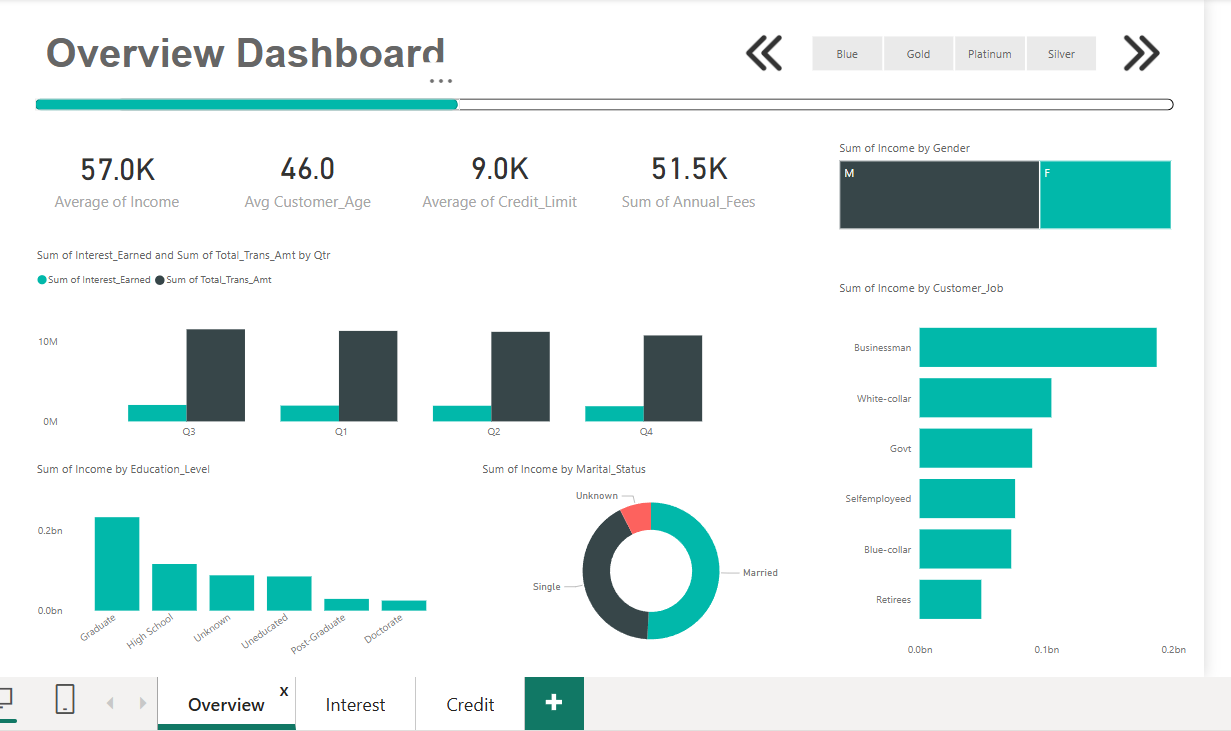

This screenshot's page, from the dashboard's own definition file:
{"tool":"powerbi","page":{"name":"Overview","canvas":[1280,720],"ordinal":0},"visuals":[{"type":"card","fields":{"Values":["Avg(customer.Income)"]},"box":[39,141.3,180.2,95.8],"z":0},{"type":"card","fields":{"Values":["Avg(cust_add.Customer_Age)"]},"box":[240.3,141.3,180.2,94.2],"z":1000},{"type":"card","fields":{"Values":["Avg(cc_add.Credit_Limit)"]},"box":[443.3,141.3,180.2,94.2],"z":2000},{"type":"card","fields":{"Values":["Sum(cc_add.Annual_Fees)"]},"box":[644.6,141.3,180.2,94.2],"z":3000},{"type":"treemap","fields":{"Group":["customer.Gender"],"Values":["Sum(customer.Income)"]},"box":[889.8,151,363.7,99],"z":4000},{"type":"clusteredColumnChart","fields":{"Category":["customer.Education_Level"],"Y":["Sum(customer.Income)"]},"box":[39,492,449.8,219.2],"z":5000},{"type":"clusteredBarChart","fields":{"Category":["customer.Customer_Job"],"Y":["Sum(customer.Income)"]},"box":[889.8,298.8,378.3,409.2],"z":6000},{"type":"donutChart","fields":{"Category":["customer.Marital_Status"],"Y":["Sum(customer.Income)"]},"box":[509.8,492,368.6,216],"z":7000},{"type":"textbox","box":[0,29.2,509.8,63.3],"z":8000},{"type":"slicer","fields":{"Values":["credit_card.Card_Category"]},"box":[839.4,34.1,350.7,50.3],"z":9000},{"type":"clusteredColumnChart","fields":{"Category":["credit_card.Qtr"],"Y":["Sum(credit_card.Interest_Earned)","Sum(credit_card.Total_Trans_Amt)"]},"box":[39,264.7,785.9,212.7],"z":10000},{"type":"shape","box":[127.2,106.6,1126.2,12.7],"z":10500},{"type":"shape","box":[41.4,106.6,450.1,12.7],"z":11000},{"type":"image","box":[1175,20,79.6,74.7],"z":12000},{"type":"image","box":[775,20,79.6,74.7],"z":13000}]}

Visuals, with their boxes on the page's 1280x720 design canvas (x1, y1, x2, y2). These are canvas units, not pixel positions in the 1231x731 screenshot, which may show the page scaled, cropped or inside an application window:
card - Avg(customer.Income): 39,141,219,237
card - Avg(cust_add.Customer_Age): 240,141,420,236
card - Avg(cc_add.Credit_Limit): 443,141,624,236
card - Sum(cc_add.Annual_Fees): 645,141,825,236
treemap - customer.Gender x Sum(customer.Income): 890,151,1254,250
clusteredColumnChart - customer.Education_Level x Sum(customer.Income): 39,492,489,711
clusteredBarChart - customer.Customer_Job x Sum(customer.Income): 890,299,1268,708
donutChart - customer.Marital_Status x Sum(customer.Income): 510,492,878,708
textbox: 0,29,510,92
slicer - credit_card.Card_Category: 839,34,1190,84
clusteredColumnChart - credit_card.Qtr x Sum(credit_card.Interest_Earned): 39,265,825,477
shape: 127,107,1253,119
shape: 41,107,492,119
image: 1175,20,1255,95
image: 775,20,855,95
